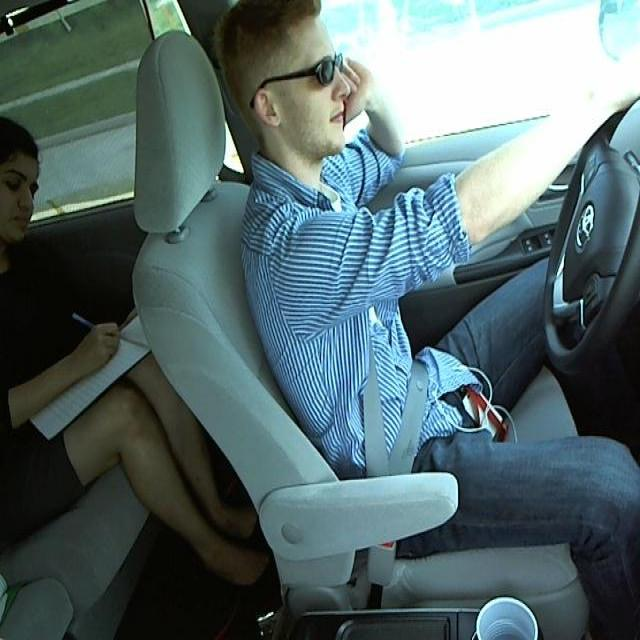using_phone: (189, 16, 419, 204)
